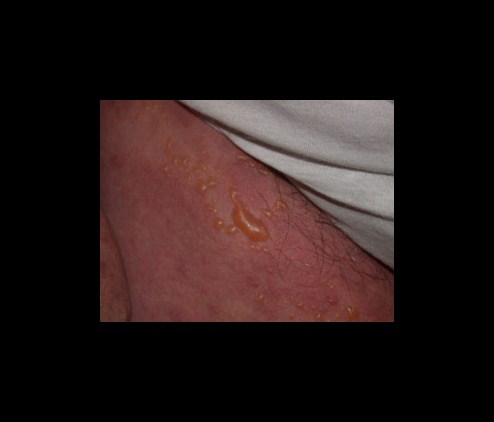SJS-TEN: (52, 64, 422, 390)
